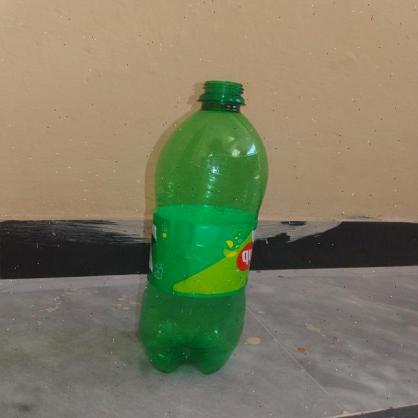bottle: (117, 72, 269, 384)
label: (134, 210, 261, 308)
